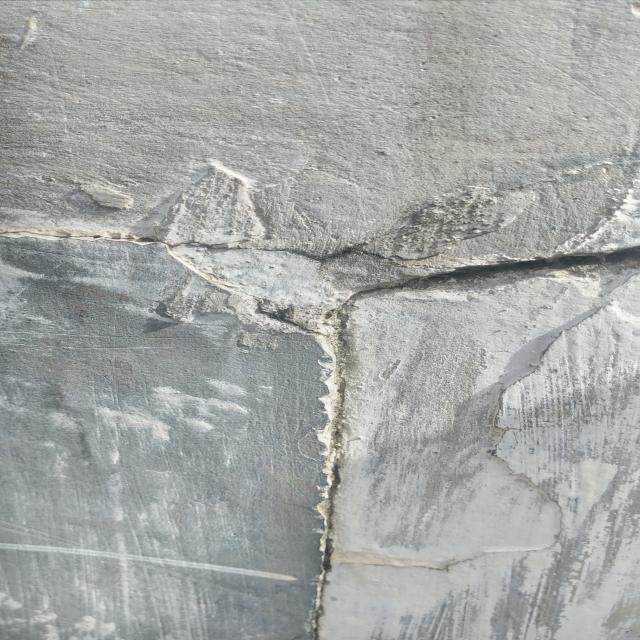Crack: (7, 221, 640, 640)
